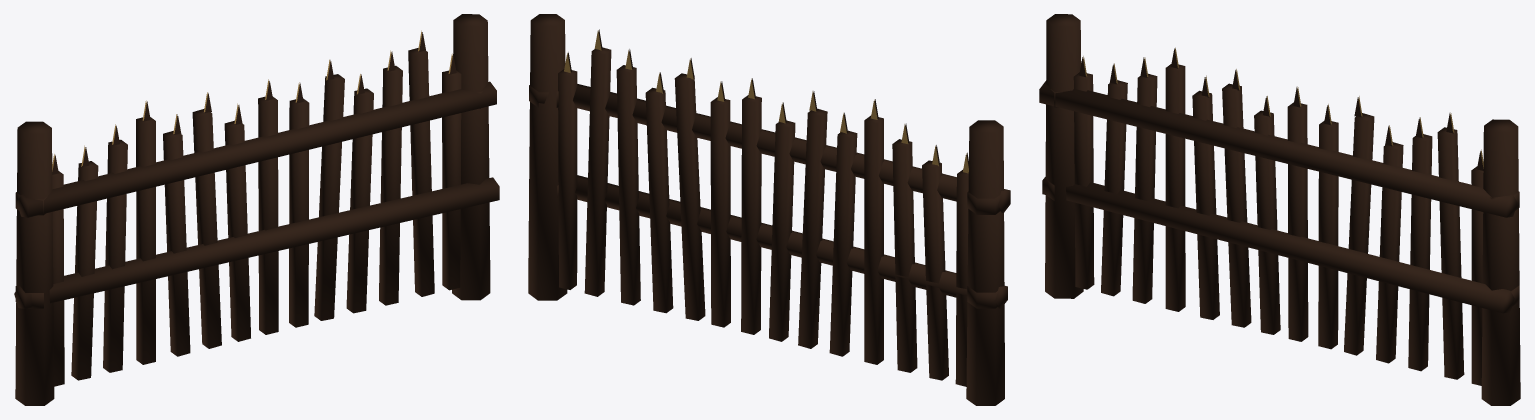
File: fence.glb
3 views of the same model, side by side, from view 1: azimuth 30°, elevation 25°; view 2: azimuth 150°, elevation 25°; view 3: azimuth 330°, elevation 25° (orthographic).
Visible parts, largest first — view 1: fence_outline, fence; view 2: fence_outline, fence; view 3: fence_outline, fence.
Boxes of the visible parts, x1,y1,x2,y2 form: fence_outline: (14,14,499,405); fence: (52,30,452,171); fence_outline: (528,14,1010,405); fence: (564,30,968,173); fence_outline: (1039,14,1520,405); fence: (1083,47,1483,168).
Bounding box in the file's own units: 2.36 × 1.32 × 0.2012.
